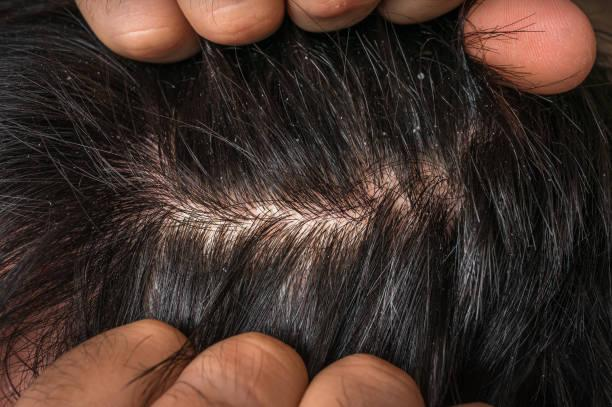dandruff: (258, 84, 303, 109), (53, 72, 91, 88), (211, 261, 241, 281), (159, 79, 192, 96), (458, 85, 481, 108), (405, 125, 432, 139), (375, 122, 391, 141), (412, 68, 426, 84), (289, 134, 304, 148), (41, 191, 52, 209)
